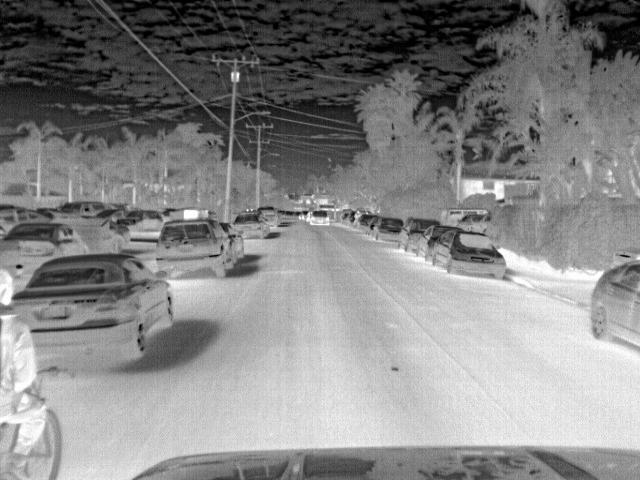car: (13, 254, 181, 360), (588, 258, 640, 352), (5, 218, 84, 275), (154, 222, 230, 278), (431, 230, 514, 281), (415, 225, 462, 260), (401, 218, 444, 252), (230, 212, 272, 240), (123, 209, 168, 234), (62, 200, 109, 218), (109, 220, 132, 253), (378, 218, 412, 240), (305, 205, 332, 227), (458, 212, 487, 230)
person: (2, 266, 50, 479)
